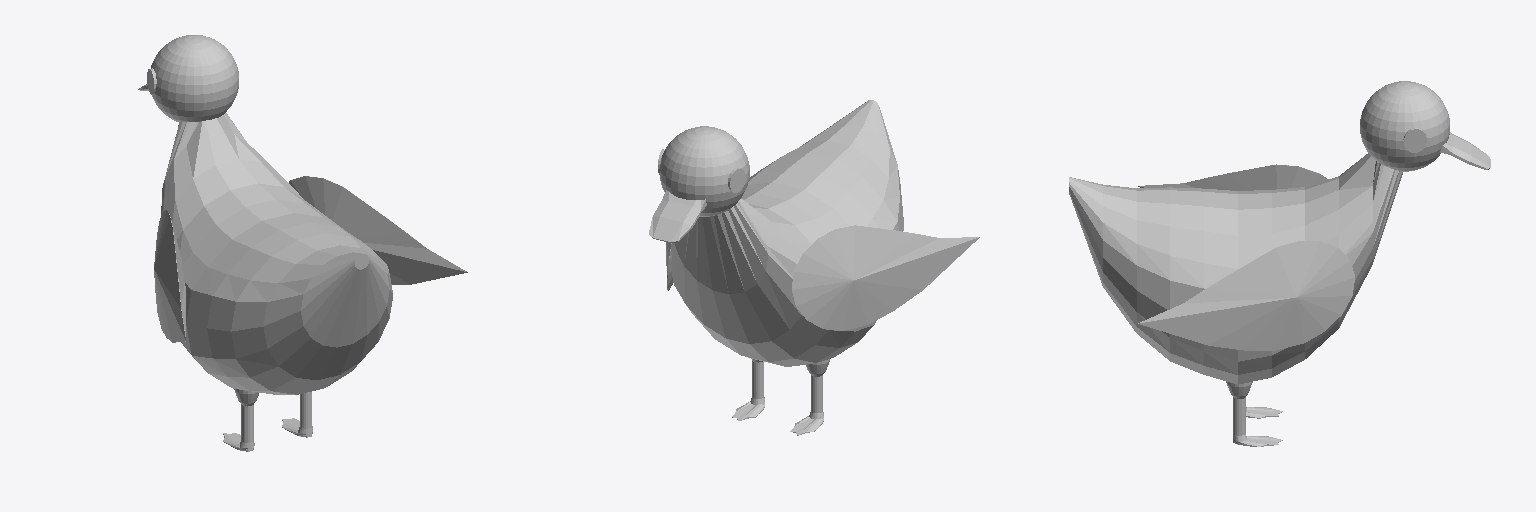
The model's file is 20194339_김민욱_Duck (1).obj.
The picture shows the model from 3 angles: view 1: azimuth 30°, elevation 25°; view 2: azimuth 150°, elevation 25°; view 3: azimuth 270°, elevation 25°; orthographic projection.
Parts seen in each view (by area): view 1: body, head, wing2, wing1, leg1, leg2; view 2: body, wing1, head, beak, leg1, leg2; view 3: body, wing2, head, wing1, leg2, beak.
Boxes of the visible parts, box(x1,y1,x2,y2) form: body: box(161, 113, 392, 394); head: box(151, 35, 238, 121); wing2: box(289, 176, 467, 284); wing1: box(154, 210, 185, 342); leg1: box(223, 389, 258, 451); leg2: box(282, 392, 312, 437); body: box(671, 100, 903, 366); wing1: box(792, 225, 979, 330); head: box(660, 126, 749, 216); beak: box(649, 190, 706, 242); leg1: box(790, 359, 829, 435); leg2: box(732, 358, 764, 420); body: box(1069, 153, 1402, 384); wing2: box(1138, 241, 1354, 350); head: box(1360, 81, 1449, 171); wing1: box(1138, 164, 1327, 190); leg2: box(1226, 381, 1282, 446); beak: box(1440, 132, 1490, 169).
Size of the model in its own units: 40.15 by 46.53 by 51.94.